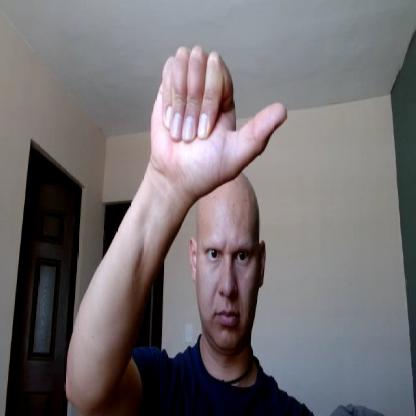A: (149, 45, 288, 196)
